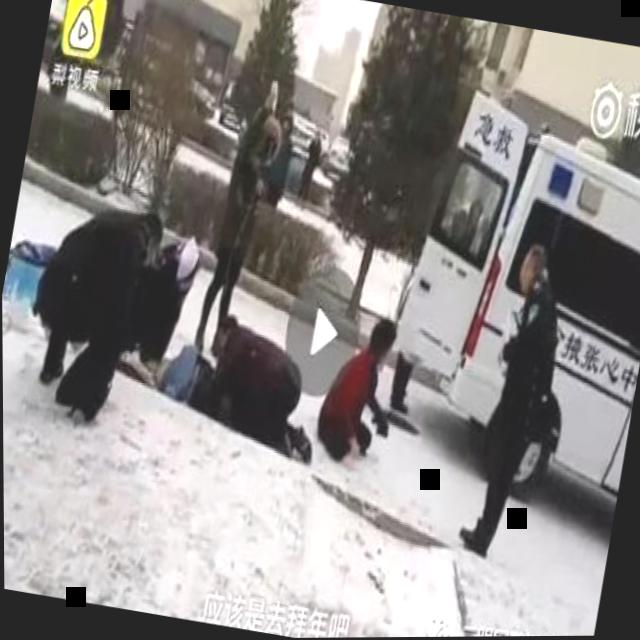Fall-Detected: (113, 312, 243, 429)
